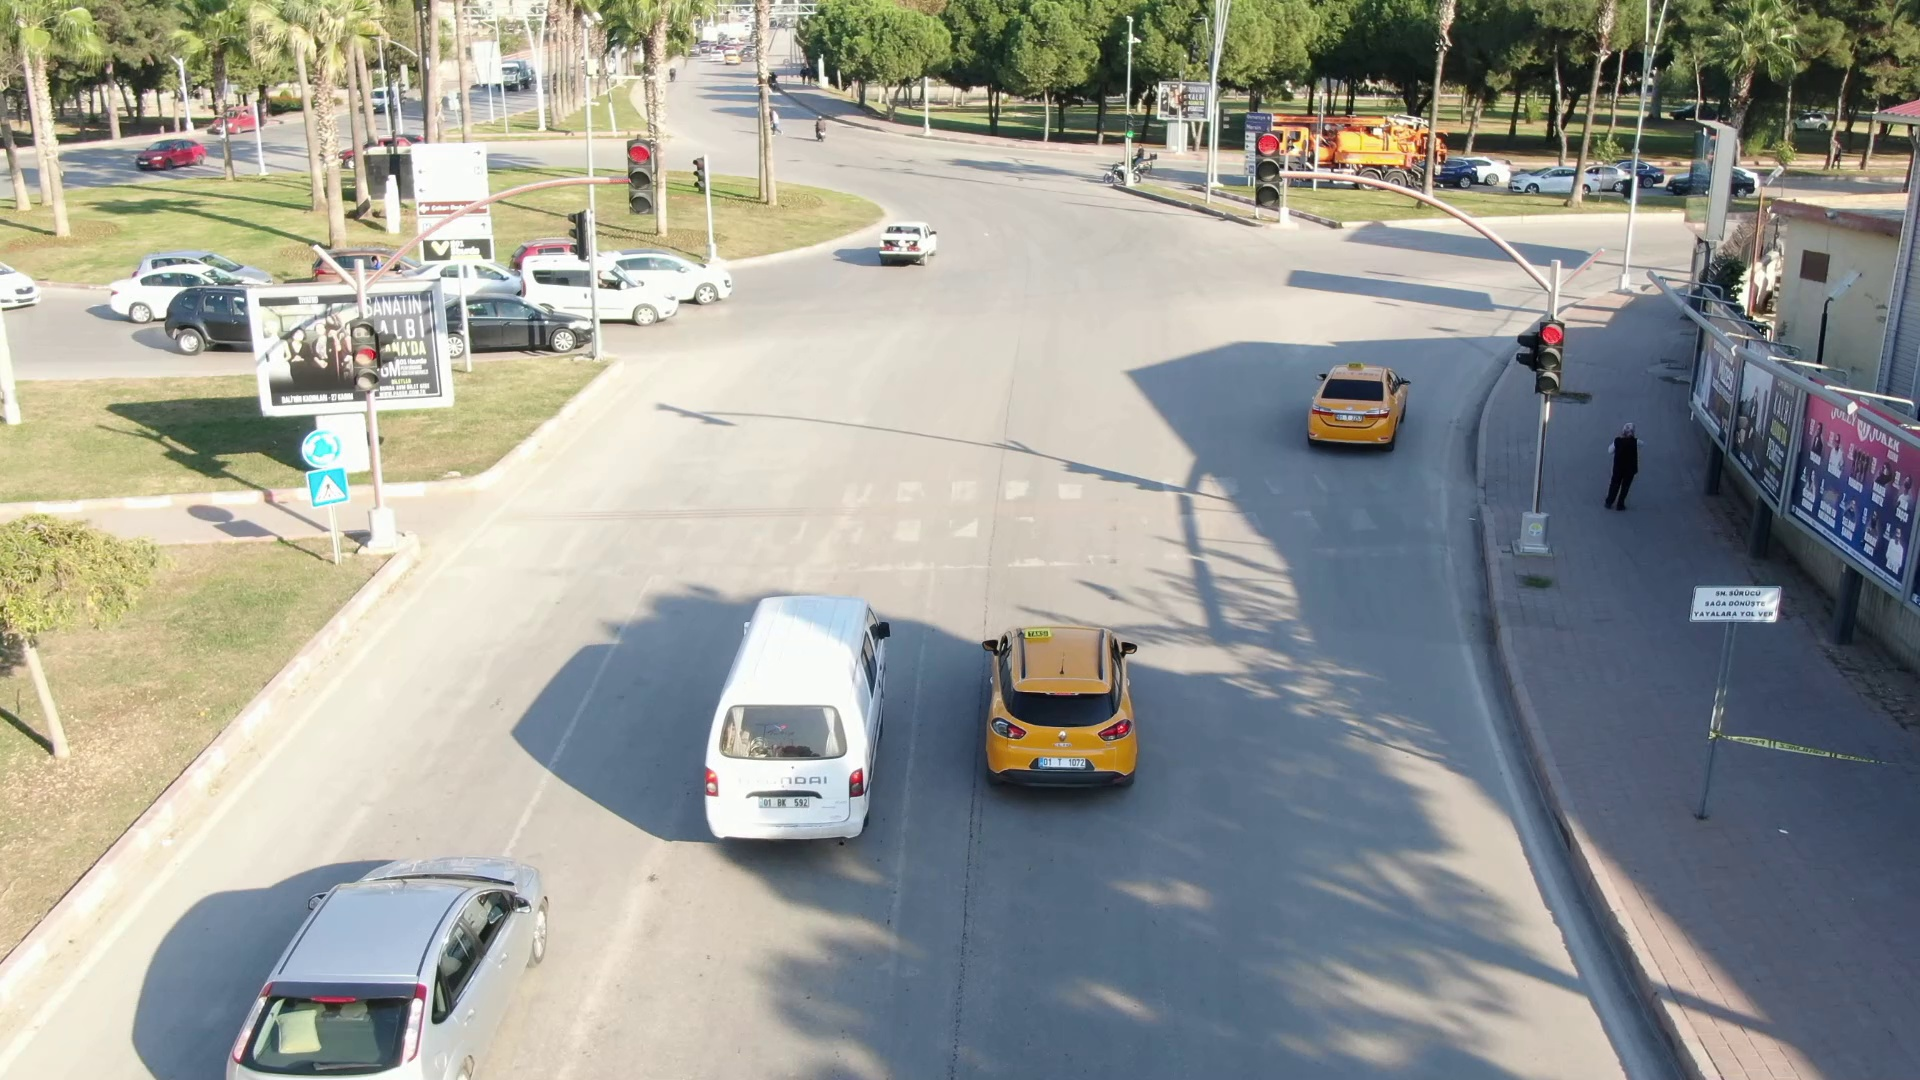car: (214, 851, 570, 1080), (704, 590, 912, 849), (976, 615, 1153, 806), (1298, 351, 1419, 459), (514, 247, 674, 329), (104, 259, 280, 319), (165, 284, 300, 359), (604, 243, 745, 314), (441, 300, 612, 355), (406, 245, 531, 296), (874, 214, 937, 265)
person: (1608, 423, 1645, 510)
